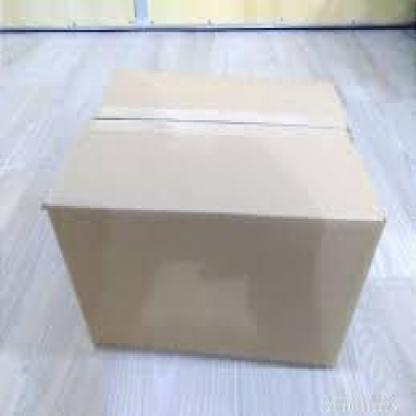paquete: (35, 55, 395, 394)
